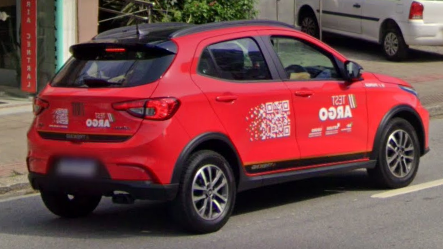car: (26, 20, 430, 231)
